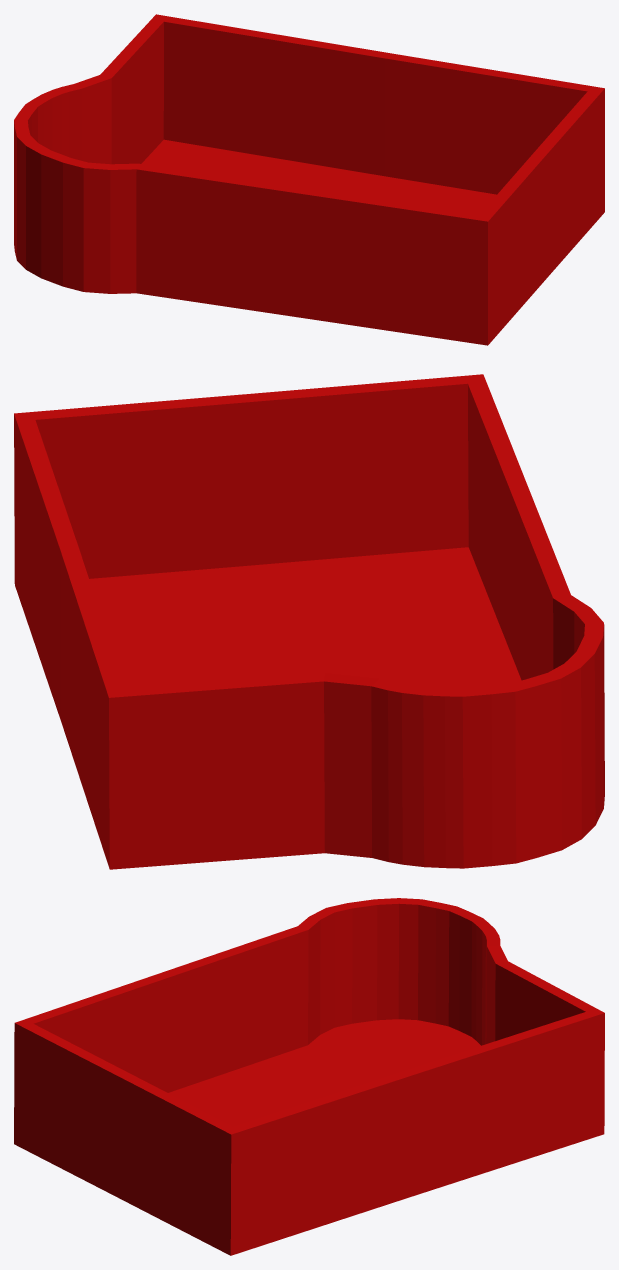
The model's file is Bio.obj.
3 renders of one model, top to bottom at view 1: azimuth 30°, elevation 25°; view 2: azimuth 150°, elevation 25°; view 3: azimuth 270°, elevation 25°, orthographic. The views are drawn at different scales.
Visible parts, largest first — view 1: Plane.001; view 2: Plane.001; view 3: Plane.001.
Part boxes in pixels (x1,y1,x2,y2): Plane.001: (14,14,604,345); Plane.001: (14,374,604,869); Plane.001: (14,898,604,1255).
Size of the model in its own units: 8.78 by 2.19 by 9.27.
